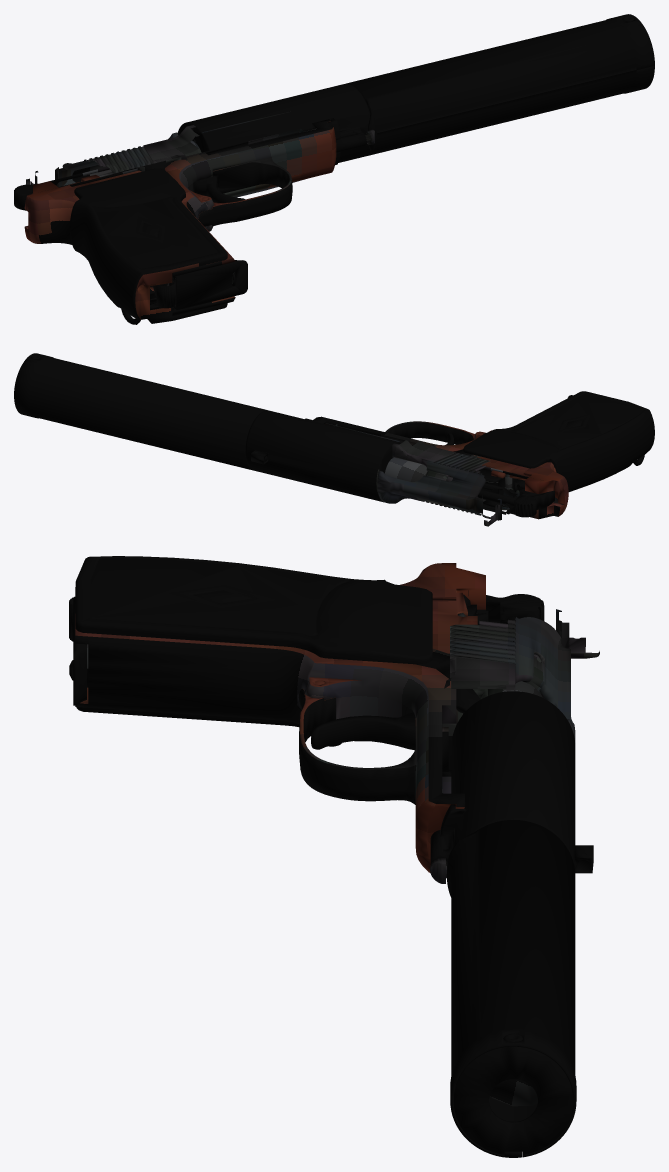
3 views of the same model, one above another, from view 1: azimuth 30°, elevation 25°; view 2: azimuth 150°, elevation 25°; view 3: azimuth 270°, elevation 25° (orthographic). The views are drawn at different scales.
Parts seen in each view (by area): view 1: gunModel, slideModel, ammoModel; view 2: gunModel, slideModel, ammoModel; view 3: gunModel, slideModel, ammoModel.
Boxes of the visible parts, bbox=[...] form: gunModel: bbox=[14, 14, 654, 324]; slideModel: bbox=[26, 110, 305, 197]; ammoModel: bbox=[116, 171, 247, 309]; gunModel: bbox=[14, 353, 654, 519]; slideModel: bbox=[325, 423, 560, 526]; ammoModel: bbox=[479, 395, 572, 494]; gunModel: bbox=[69, 556, 593, 1157]; slideModel: bbox=[444, 590, 599, 742]; ammoModel: bbox=[69, 597, 88, 705].
Size of the model in its own units: 9.15 by 0.9961 by 4.05.
